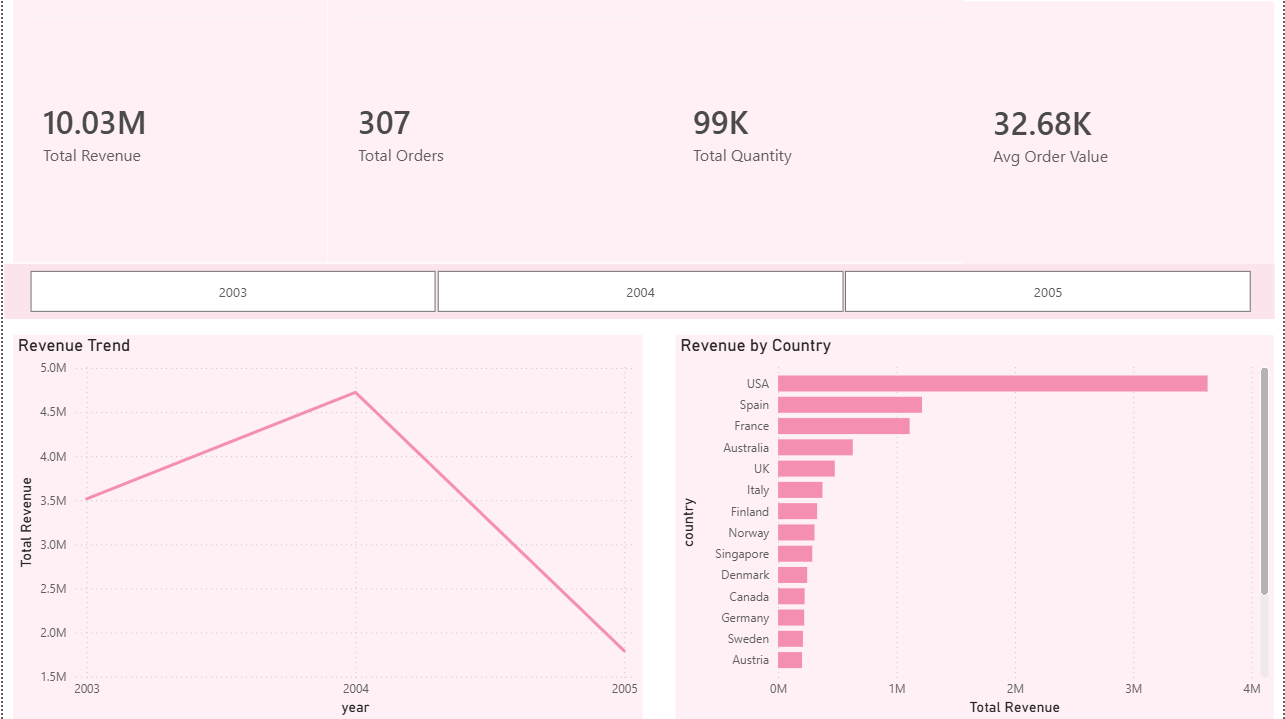

The dashboard page shown, as its layout file describes it:
{"tool":"powerbi","page":{"name":"Overview","canvas":[1280,720],"ordinal":0},"visuals":[{"type":"cardVisual","fields":{"Data":["public customers.Total Revenue"]},"box":[10,0,314.7,262.5],"z":0},{"type":"cardVisual","fields":{"Data":["public customers.Total Orders"]},"box":[324.7,0,335.9,262.5],"z":1000},{"type":"cardVisual","fields":{"Data":["public customers.Total Quantity"]},"box":[660.5,0,299.8,262.5],"z":2000},{"type":"cardVisual","fields":{"Data":["public customers.Avg Order Value"]},"box":[960.3,1.2,311,262.5],"z":3000},{"type":"lineChart","title":"Revenue Trend","fields":{"Y":["public customers.Total Revenue"],"Category":["public orders.year_id"]},"box":[10,334.6,629.4,385.6],"z":4000},{"type":"clusteredBarChart","title":"Revenue by Country","fields":{"Category":["public customers.country"],"Y":["public customers.Total Revenue"]},"box":[673,334.6,598.3,385.6],"z":5000},{"type":"slicer","fields":{"Values":["public orders.year_id"]},"box":[1.4,263.5,1270.7,54.9],"z":6000}]}

Visuals, with their boxes in screenshot pixels (x1, y1, x2, y2), scaled from the page's 1280x720 canvas onto the 1285x719 screenshot:
cardVisual - public customers.Total Revenue: detection(10, 0, 326, 262)
cardVisual - public customers.Total Orders: detection(326, 0, 663, 262)
cardVisual - public customers.Total Quantity: detection(663, 0, 964, 262)
cardVisual - public customers.Avg Order Value: detection(964, 1, 1276, 263)
"Revenue Trend" lineChart: detection(10, 334, 642, 718)
"Revenue by Country" clusteredBarChart: detection(676, 334, 1276, 718)
slicer - public orders.year_id: detection(1, 263, 1277, 318)
